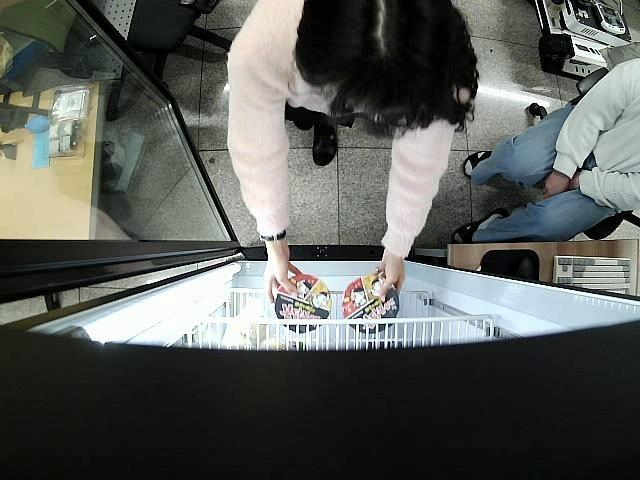07_buldak_L: (340, 274, 399, 334), (276, 271, 332, 334)
